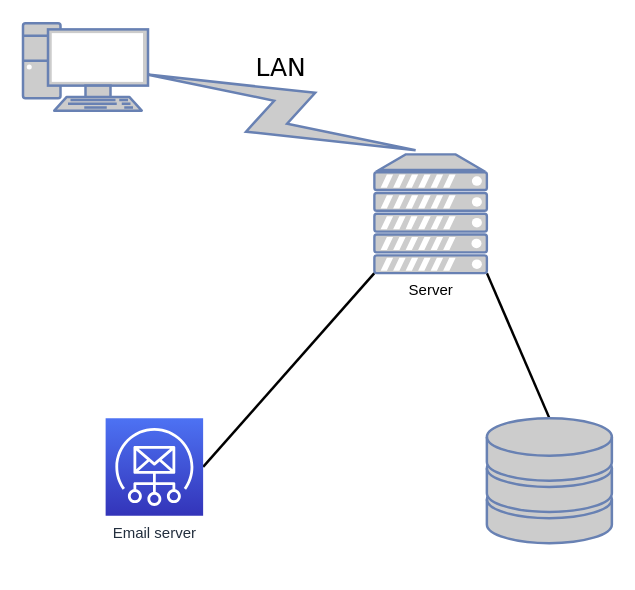
Some shapes in this 635 by 590 pixel diagram are drawn without their labels. Each missing label, with the centre of its shape:
"Client" goes at [85,66].
"Database" goes at [548,480].
